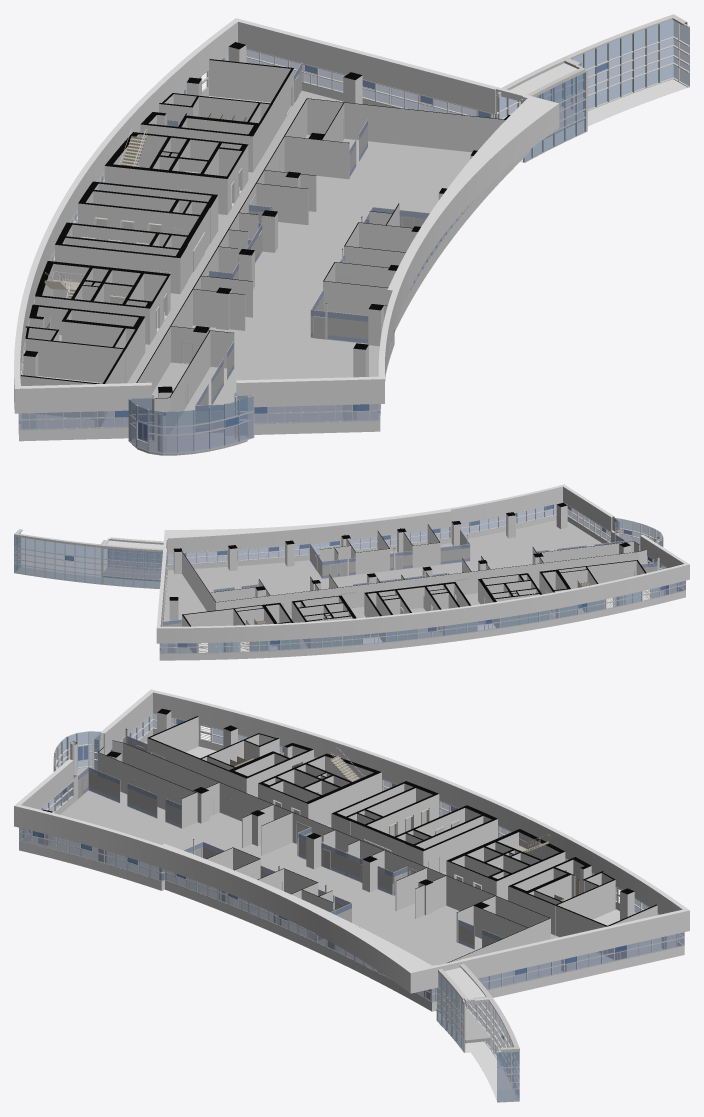
3 renders of one model, top to bottom at view 1: azimuth 30°, elevation 25°; view 2: azimuth 150°, elevation 25°; view 3: azimuth 270°, elevation 25°, orthographic. The views are drawn at different scales.
Parts seen in each view (by area): view 1: A1-8F-Wall, A1-8F-Floor, A1-8F-Dry Wall, A1-8F-In Dry Wall, A1-8F-Glass1, A1-8F-Column, A1-8F-Frame, A1-8F-Glass Wall, A1-8F-1-Glass2, A1-8F-1-Frame, A1-8F-1-Glass1, A1-8F-Glass2 (+7 smaller); view 2: A1-8F-Wall, A1-8F-In Dry Wall, A1-8F-Dry Wall, A1-8F-Floor, A1-8F-Glass1, A1-8F-Frame, A1-8F-Glass2, A1-8F-Column, A1-8F-1-Glass2, A1-8F-1-Glass1, A1-8F-Glass Wall, A1-8F-1-Frame (+6 smaller); view 3: A1-8F-Wall, A1-8F-In Dry Wall, A1-8F-Dry Wall, A1-8F-Floor, A1-8F-Glass1, A1-8F-Glass Wall, A1-8F-Column, A1-8F-Frame, A1-8F-1-Frame, A1-8F-1-Floor, A1-8F-1-Glass2, A1-8F-Door (+5 smaller).
Part boxes in pixels (box(x1,y1,x2,y2)): A1-8F-Wall: box(20, 59, 503, 433); A1-8F-Floor: box(21, 90, 471, 455); A1-8F-Dry Wall: box(14, 18, 559, 413); A1-8F-In Dry Wall: box(18, 20, 529, 441); A1-8F-Glass1: box(18, 49, 497, 453); A1-8F-Column: box(23, 42, 510, 451); A1-8F-Frame: box(18, 48, 499, 453); A1-8F-Glass Wall: box(96, 62, 444, 435); A1-8F-1-Glass2: box(499, 19, 689, 161); A1-8F-1-Frame: box(499, 23, 689, 162); A1-8F-1-Glass1: box(499, 38, 689, 132); A1-8F-Glass2: box(53, 89, 253, 426); A1-8F-Wall: box(182, 521, 659, 652); A1-8F-In Dry Wall: box(159, 486, 685, 660); A1-8F-Dry Wall: box(156, 484, 689, 643); A1-8F-Floor: box(161, 520, 665, 652); A1-8F-Glass1: box(159, 502, 685, 653); A1-8F-Frame: box(159, 502, 685, 653); A1-8F-Glass2: box(209, 518, 663, 652); A1-8F-Column: box(167, 502, 676, 652); A1-8F-1-Glass2: box(14, 532, 166, 588); A1-8F-1-Glass1: box(14, 543, 162, 579); A1-8F-Glass Wall: box(162, 529, 657, 626); A1-8F-1-Frame: box(14, 536, 162, 588); A1-8F-Wall: box(97, 716, 657, 994); A1-8F-In Dry Wall: box(19, 691, 684, 1011); A1-8F-Dry Wall: box(14, 689, 689, 993); A1-8F-Floor: box(28, 741, 662, 1000); A1-8F-Glass1: box(19, 713, 684, 1002); A1-8F-Glass Wall: box(70, 736, 625, 959); A1-8F-Column: box(38, 708, 675, 1000); A1-8F-Frame: box(19, 713, 684, 1002); A1-8F-1-Frame: box(436, 972, 519, 1102); A1-8F-1-Floor: box(436, 1003, 516, 1100); A1-8F-1-Glass2: box(437, 973, 519, 1101); A1-8F-Door: box(78, 745, 617, 959).
Bounding box in the file's own units: 89.85 × 6.47 × 71.71.
